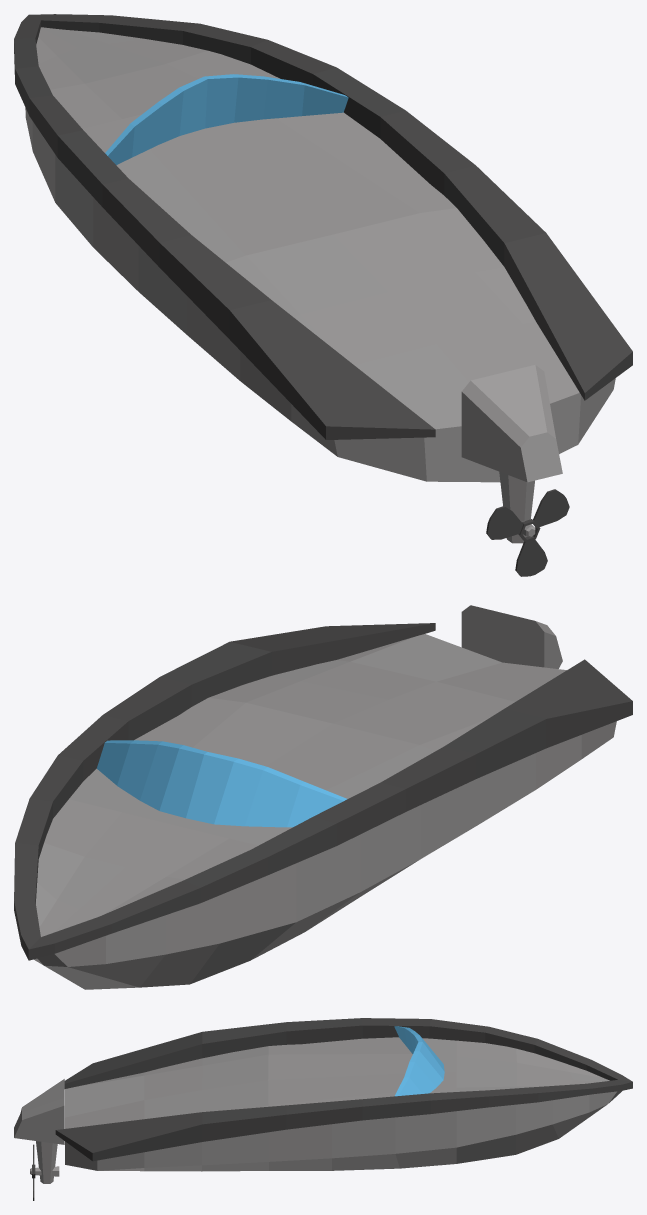
The model's file is BarcoMédio.fbx.
3 views of the same model, one above another, from view 1: azimuth 30°, elevation 25°; view 2: azimuth 150°, elevation 25°; view 3: azimuth 270°, elevation 25° (orthographic). The views are drawn at different scales.
Parts seen in each view (by area): view 1: Plane, Cube.006, Cube.007, Cube.008, Cylinder.002, Cylinder; view 2: Plane, Cube.006, Cube.007, Cube.008; view 3: Plane, Cube.006, Cube.008, Cube.007, Cylinder.
Part boxes in pixels (bbox=[...]): Plane: bbox=[25, 27, 615, 482]; Cube.006: bbox=[14, 14, 632, 439]; Cube.007: bbox=[105, 74, 348, 164]; Cube.008: bbox=[461, 365, 562, 482]; Cylinder.002: bbox=[486, 489, 569, 576]; Cylinder: bbox=[499, 471, 534, 543]; Plane: bbox=[33, 634, 616, 989]; Cube.006: bbox=[14, 623, 632, 960]; Cube.007: bbox=[97, 740, 347, 827]; Cube.008: bbox=[461, 605, 562, 668]; Plane: bbox=[65, 1037, 621, 1171]; Cube.006: bbox=[55, 1018, 632, 1161]; Cube.008: bbox=[14, 1079, 64, 1144]; Cube.007: bbox=[394, 1026, 444, 1096]; Cylinder: bbox=[36, 1141, 57, 1183].
Bounding box in the file's own units: 362 × 286 × 1023.
